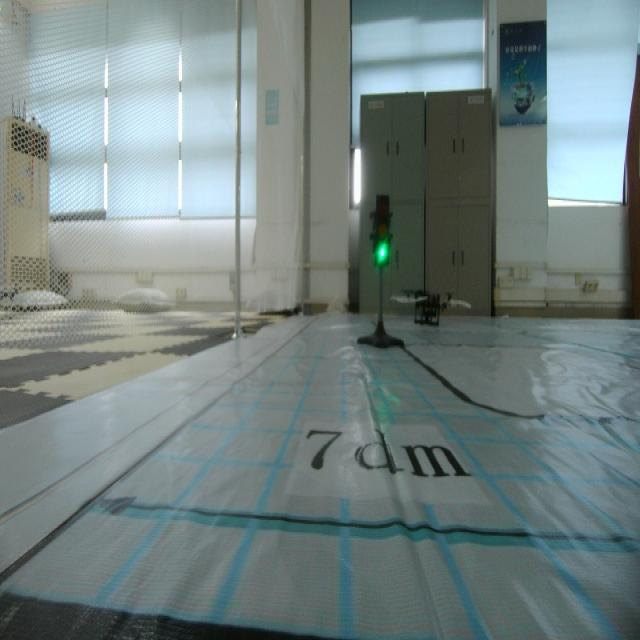green: (364, 189, 398, 275)
